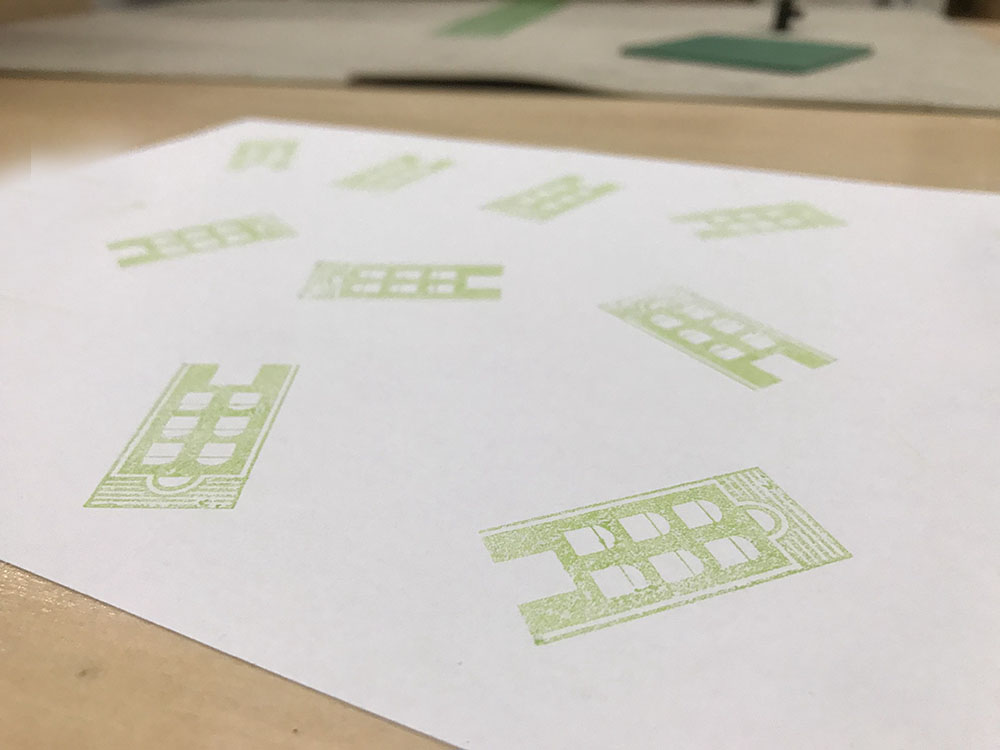build: (464, 437, 874, 669), (66, 340, 307, 527), (579, 264, 855, 412), (287, 247, 519, 322), (652, 180, 875, 253), (91, 206, 319, 274), (473, 154, 632, 238)
